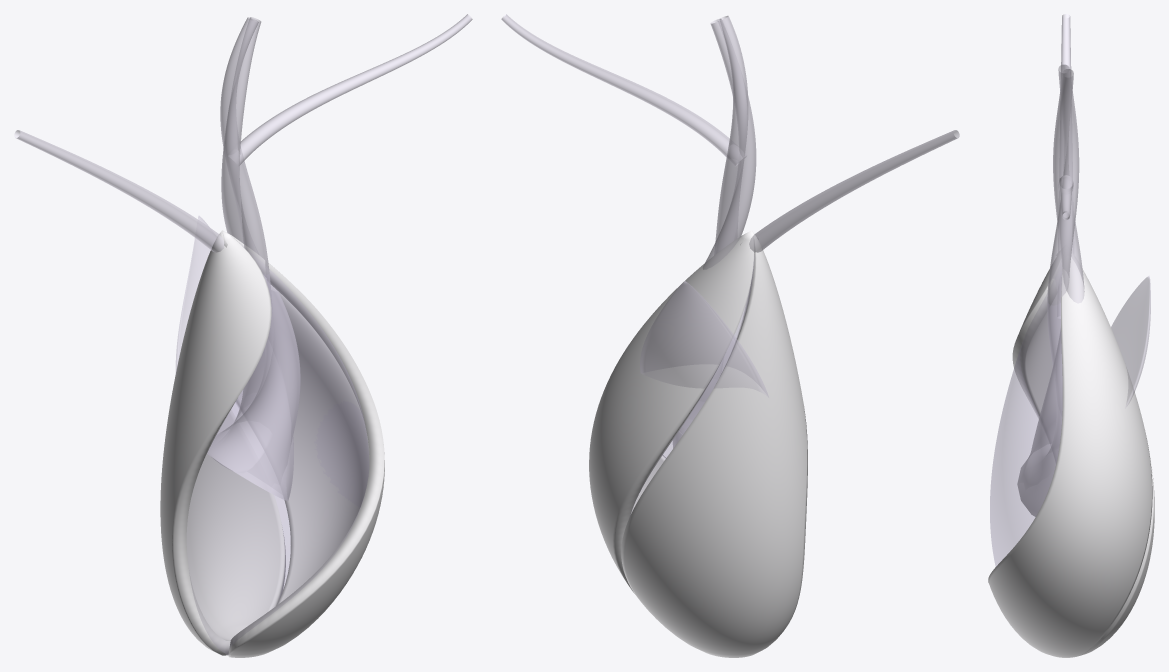
Rendered from plant.glb.
3 views of the same model, side by side, from view 1: azimuth 30°, elevation 25°; view 2: azimuth 150°, elevation 25°; view 3: azimuth 270°, elevation 25° (orthographic). The views are drawn at different scales.
Visible parts, largest first — view 1: Seed_Core, Seed_Shell_B, Seed_Shell_A, Tree_Stem, Leaf; view 2: Seed_Shell_B, Seed_Shell_A, Tree_Stem, Leaf, Seed_Core; view 3: Seed_Shell_A, Seed_Core, Tree_Stem, Seed_Shell_B, Leaf.
Boxes of the visible parts, x1=… form: Seed_Core: x1=187, y1=245, x2=368, y2=654; Seed_Shell_B: x1=160, y1=230, x2=285, y2=655; Seed_Shell_A: x1=210, y1=231, x2=384, y2=657; Tree_Stem: x1=14, y1=14, x2=472, y2=500; Leaf: x1=176, y1=216, x2=242, y2=469; Seed_Shell_B: x1=621, y1=231, x2=807, y2=657; Seed_Shell_A: x1=589, y1=230, x2=754, y2=593; Tree_Stem: x1=501, y1=14, x2=959, y2=448; Leaf: x1=640, y1=281, x2=768, y2=428; Seed_Core: x1=630, y1=257, x2=754, y2=514; Seed_Shell_A: x1=988, y1=253, x2=1152, y2=657; Seed_Core: x1=990, y1=293, x2=1062, y2=566; Tree_Stem: x1=1017, y1=14, x2=1084, y2=516; Seed_Shell_B: x1=1012, y1=252, x2=1154, y2=654; Leaf: x1=1111, y1=276, x2=1150, y2=406.
Bounding box in the file's own units: 2.12 × 2.81 × 0.7227.
